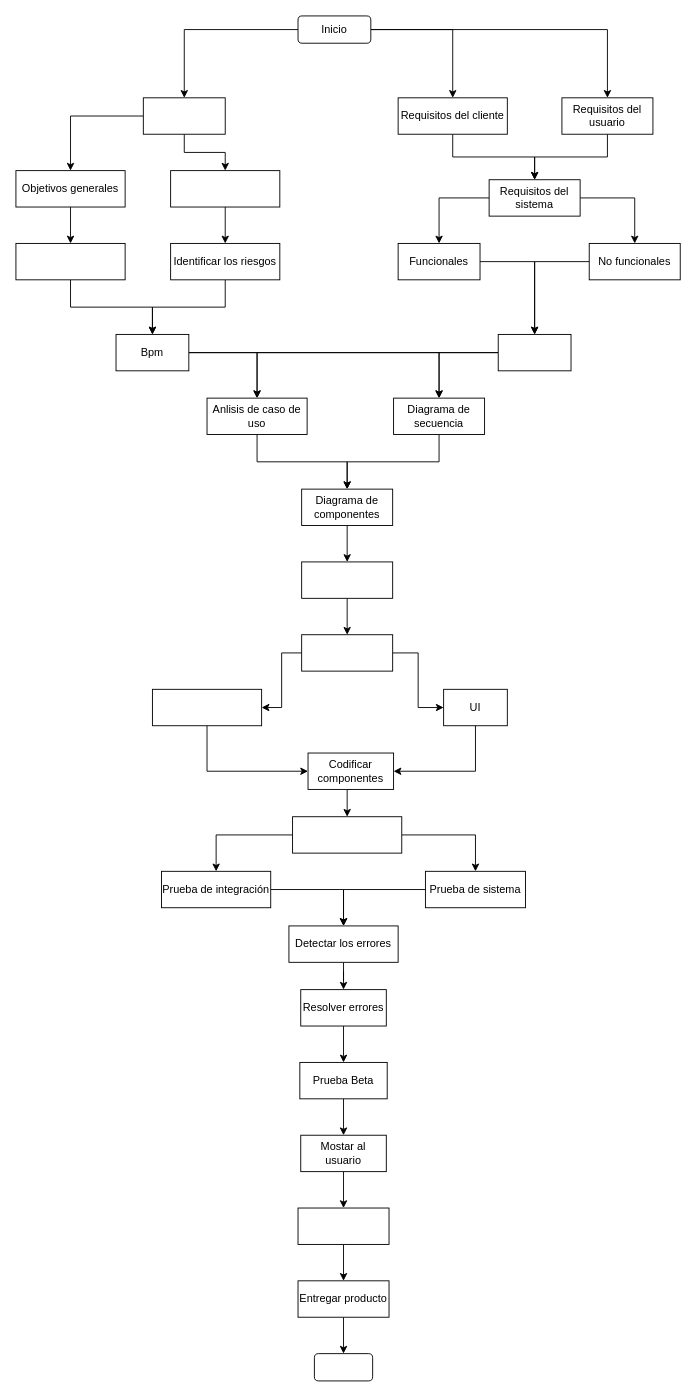
This 696x1397 diagram has some shape labels left out. Each missing label, with the centre of its shape:
Alcanse del proyecto: pixel 225 188
Casos de uso: pixel 183 115
Diagrama de procesamiento: pixel 347 579
Elementos de deseño: pixel 207 707
Fin: pixel 343 1367
Hacer instalador: pixel 343 1225
IEEE830: pixel 534 352
Implementar componentes: pixel 347 652
Objetivos espesificos: pixel 70 261
Validar la arquitectura: pixel 347 834
